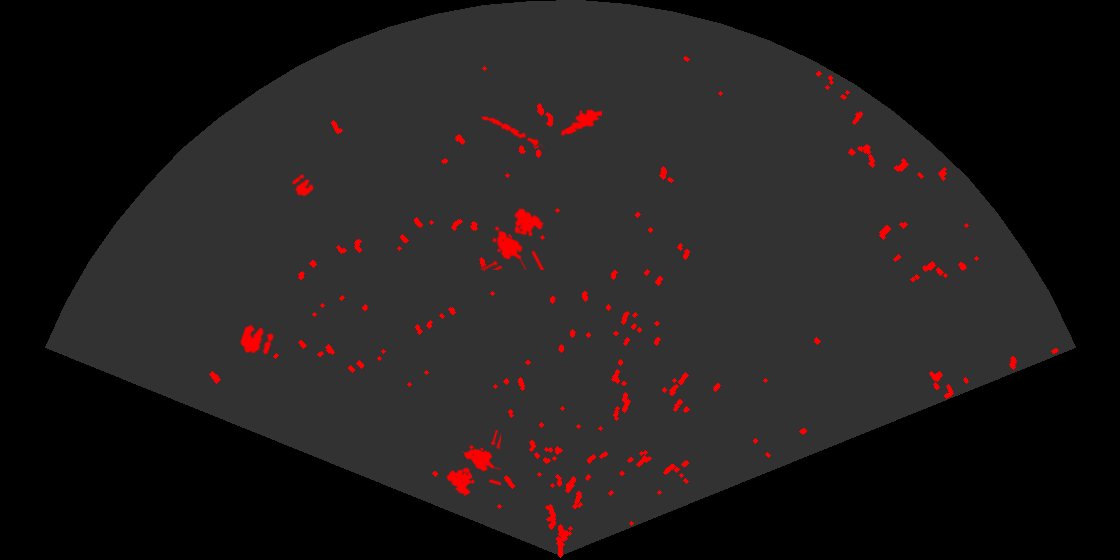ball: (238, 323, 276, 356), (290, 173, 315, 198)
cage: (478, 207, 546, 270), (445, 430, 501, 498)
chain: (478, 114, 545, 150)
frogman: (557, 108, 602, 137)
